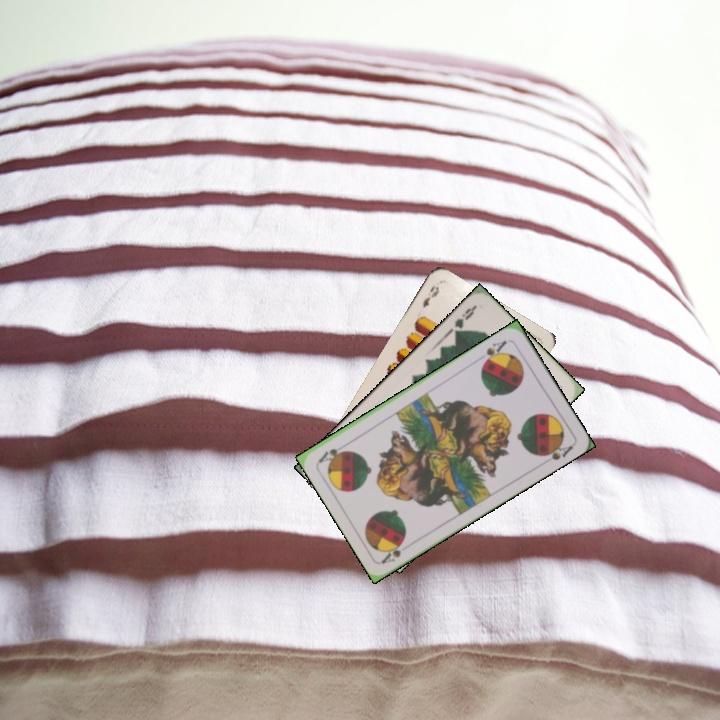E9: (418, 282, 442, 310)
G9: (450, 302, 479, 338)
SA: (478, 336, 510, 368), (378, 536, 407, 566)
